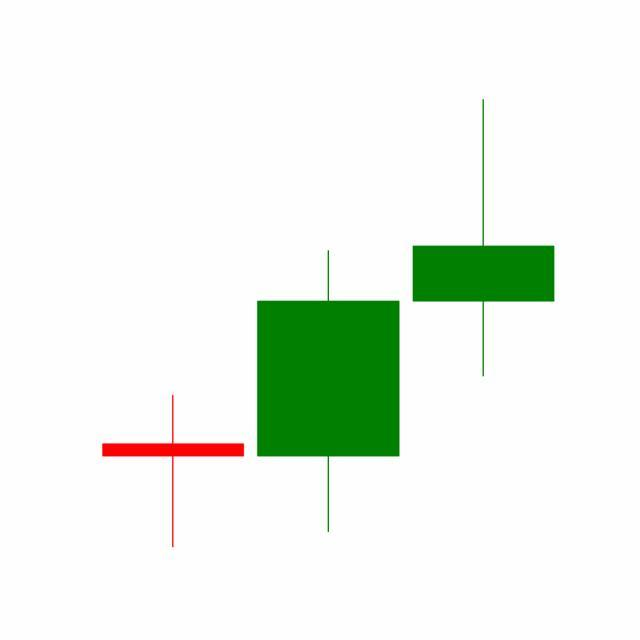Spinning Top: (406, 96, 562, 380)
